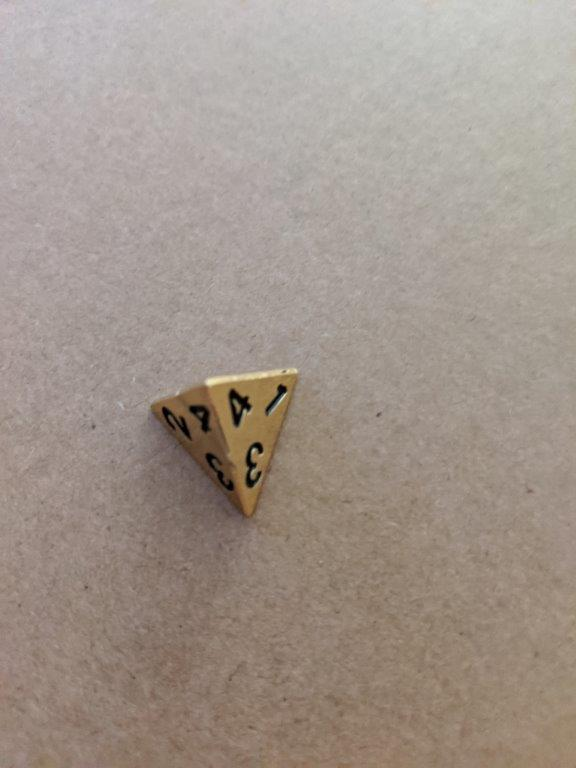d4-4: (147, 365, 303, 525)
